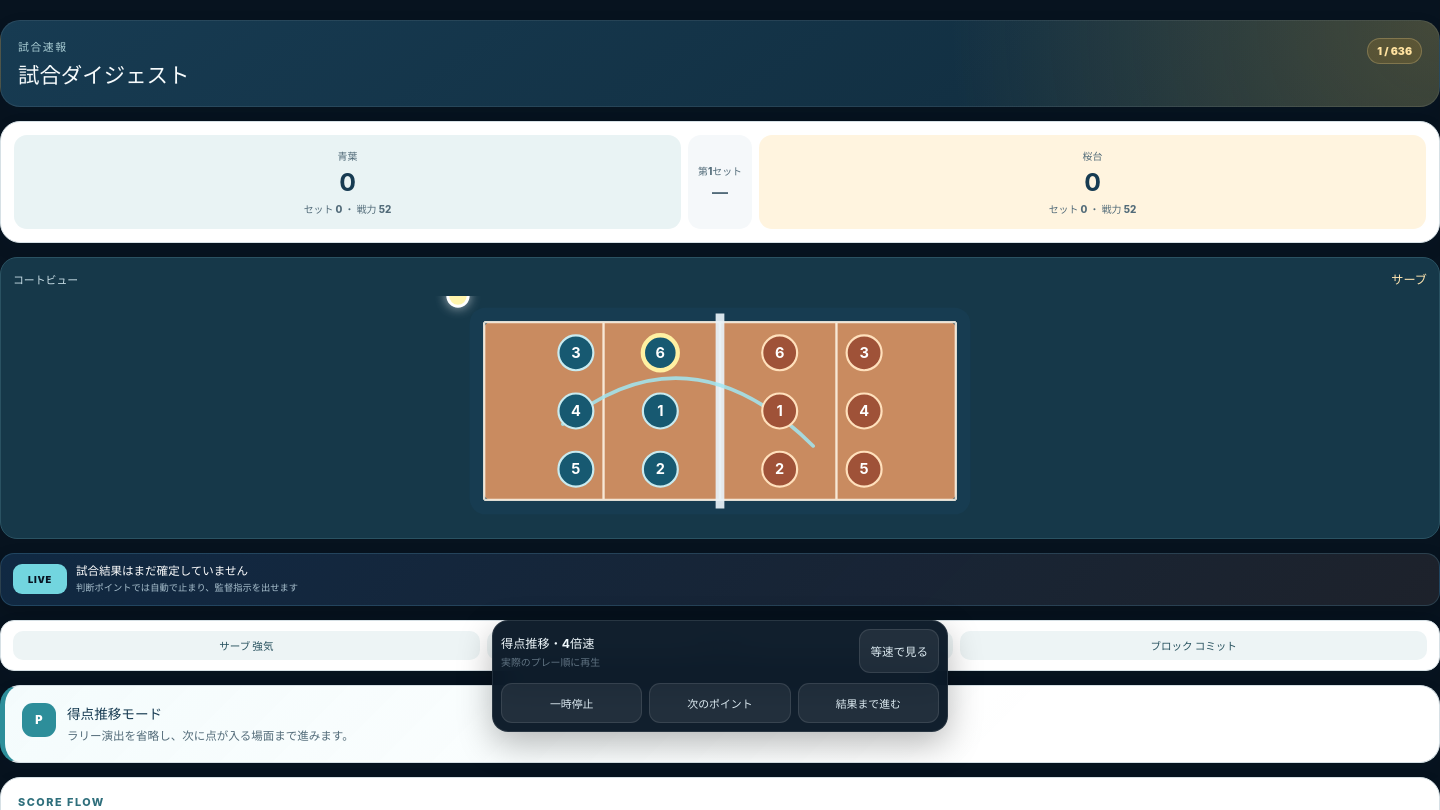
Test: Phase16 MatchScreen command presentation › shows the Phase53 result review instead of the coaching log after an interactive match completes
What coordinates should you click on to do the following:
click the button "結果まで進む"
I would click on:
 (868, 703)
Its box is x1=798 y1=683 x2=939 y2=723.
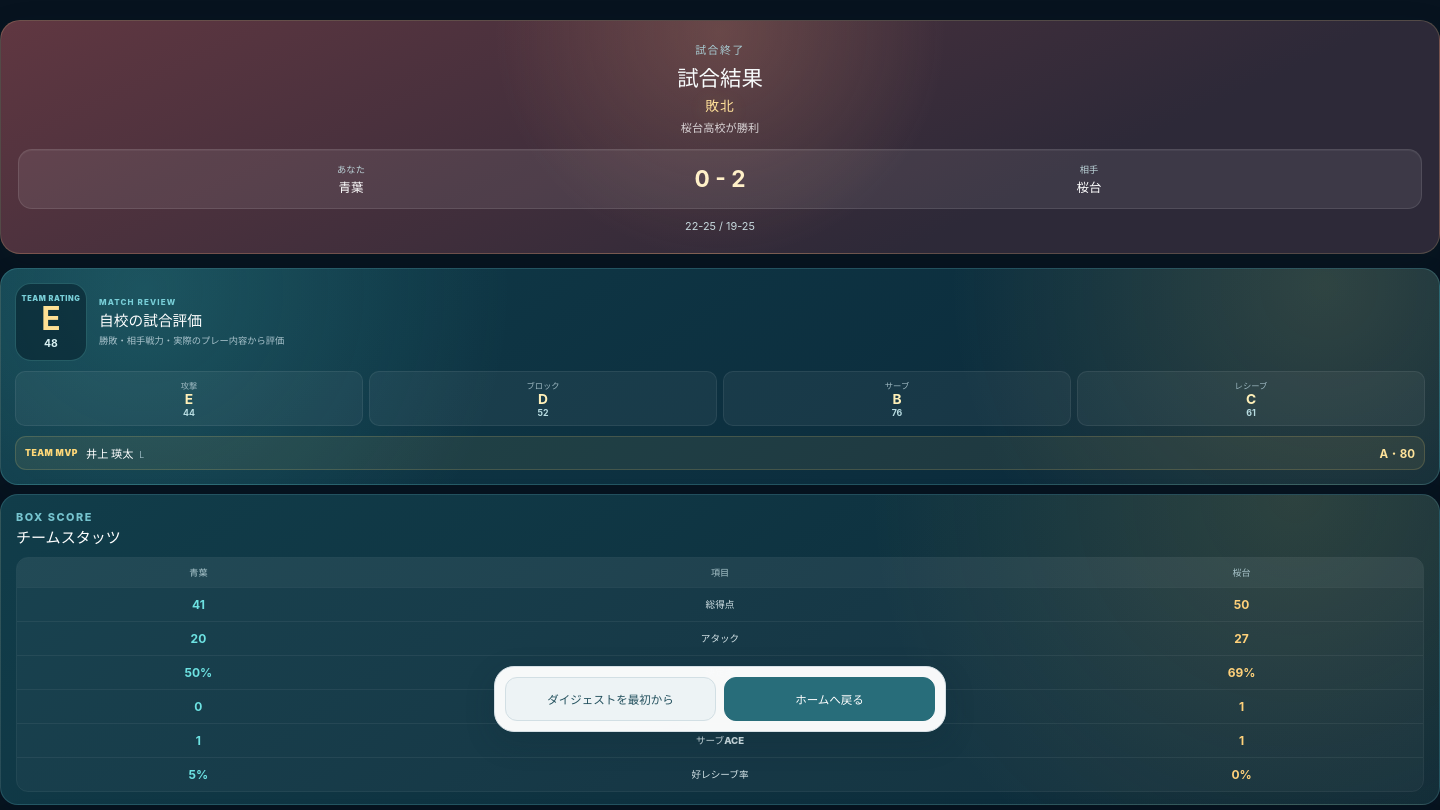
Check: the heading "試合結果" is shown, box x1=677 y1=65 x2=763 y2=91
Check: the heading "自校の試合評価" is shown, box x1=99 y1=312 x2=202 y2=330
Check: the text "TEAM MVP" is shown, box x1=25 y1=448 x2=78 y2=458
